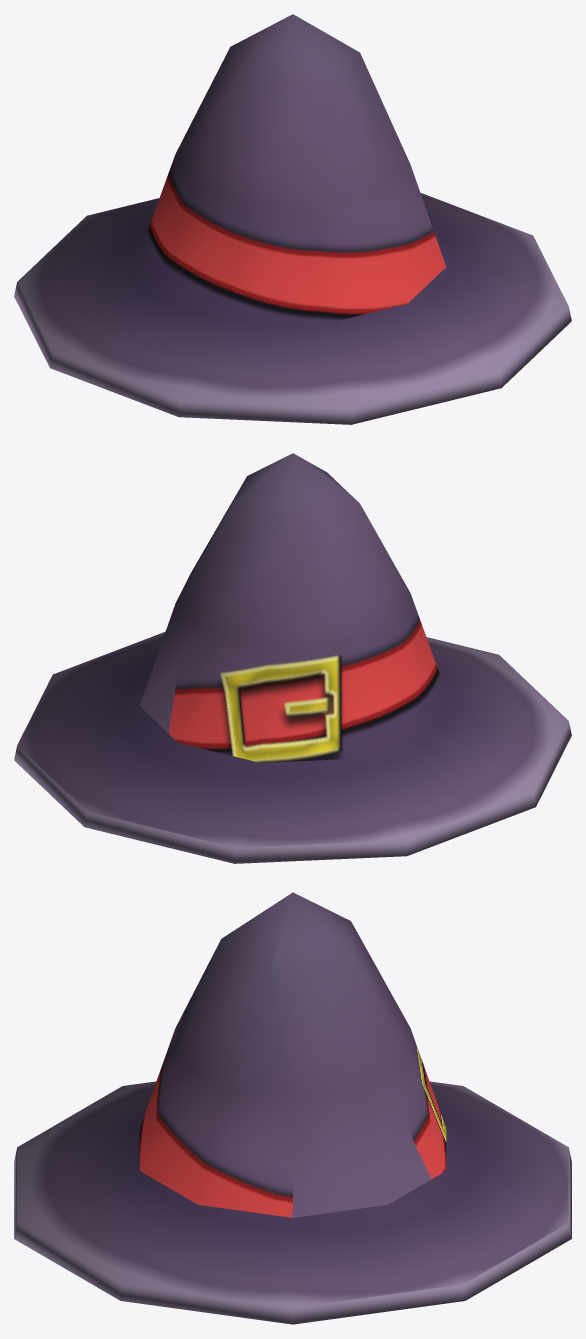
File: acc_hatCone.FBX
3 renders of one model, top to bottom at view 1: azimuth 30°, elevation 25°; view 2: azimuth 150°, elevation 25°; view 3: azimuth 270°, elevation 25°, orthographic. The views are drawn at different scales.
Parts seen in each view (by area): view 1: acc_hatCone_mesh; view 2: acc_hatCone_mesh; view 3: acc_hatCone_mesh.
Boxes of the visible parts, <box> form: acc_hatCone_mesh: <box>14,14,571,424</box>; acc_hatCone_mesh: <box>14,453,571,863</box>; acc_hatCone_mesh: <box>14,892,571,1324</box>.
Bounding box in the file's own units: 130 × 75.09 × 123.
